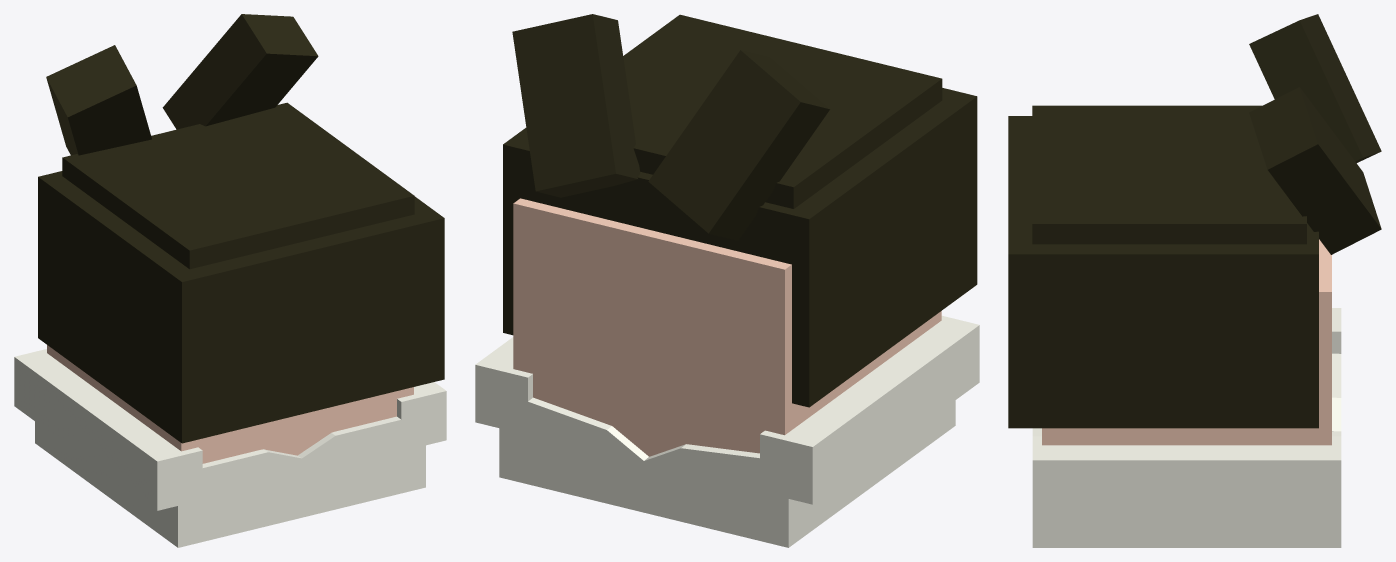
File: Man2.fbx
3 renders of one model, left to right at view 1: azimuth 30°, elevation 25°; view 2: azimuth 150°, elevation 25°; view 3: azimuth 270°, elevation 25°, orthographic. The views are drawn at different scales.
Visible parts, largest first — view 1: Cube.012; view 2: Cube.012; view 3: Cube.012.
Boxes of the visible parts, x1,y1,x2,y2 form: Cube.012: (14,14,446,547); Cube.012: (475,14,979,547); Cube.012: (1008,14,1381,547).
Bounding box in the file's own units: 249 × 327 × 258.
